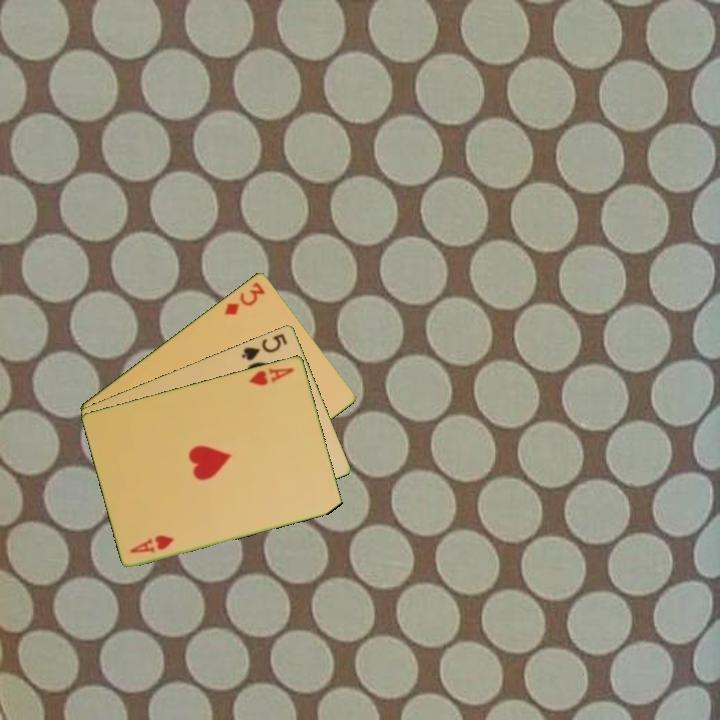3d: (221, 278, 268, 318)
5s: (238, 330, 290, 363)
Ah: (126, 531, 177, 556), (246, 364, 297, 388)
